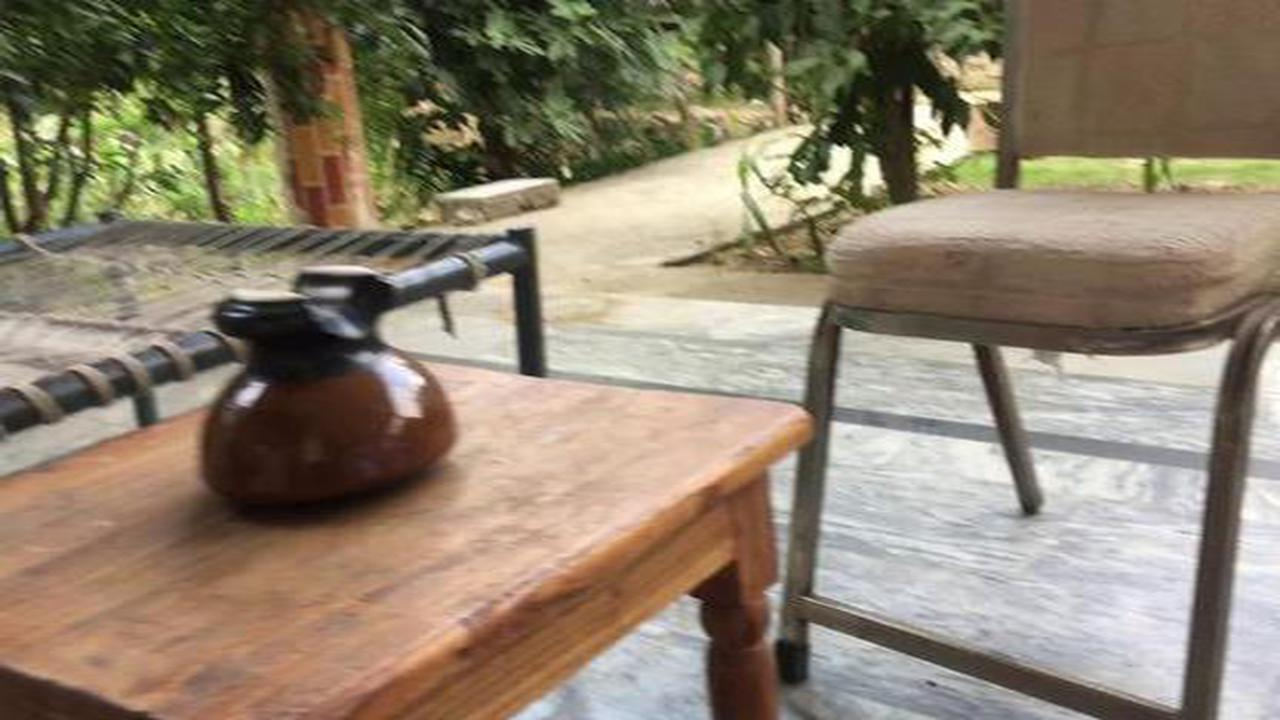insulator_pin: (185, 251, 465, 516)
